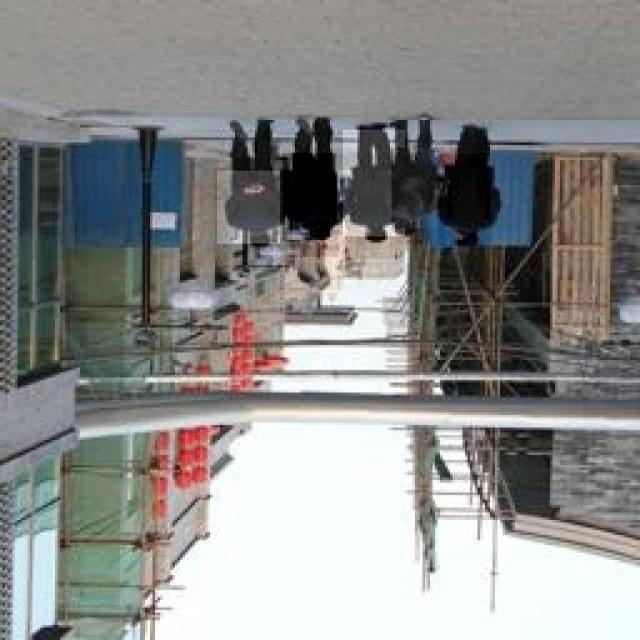Helmet: (343, 130, 405, 236), (282, 153, 336, 242), (438, 154, 490, 246), (217, 170, 280, 243), (392, 148, 446, 228), (235, 220, 273, 271), (356, 216, 397, 259), (444, 226, 479, 274), (303, 220, 339, 257), (395, 206, 424, 244)
